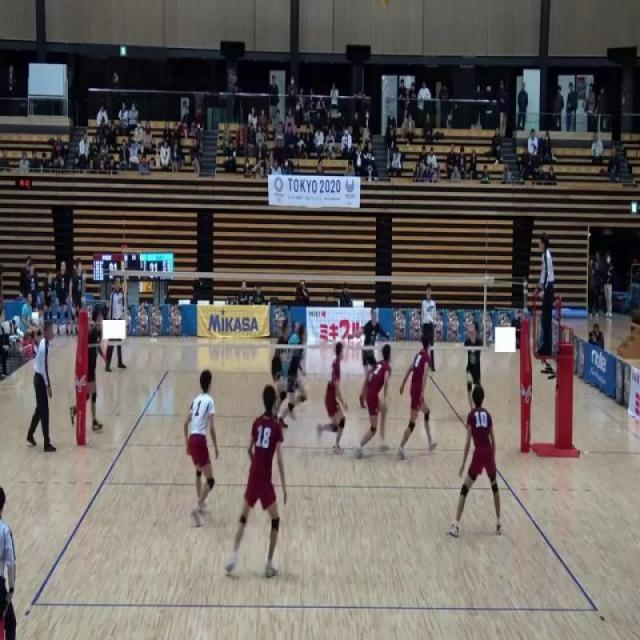volleyball: (380, 0, 390, 9)
